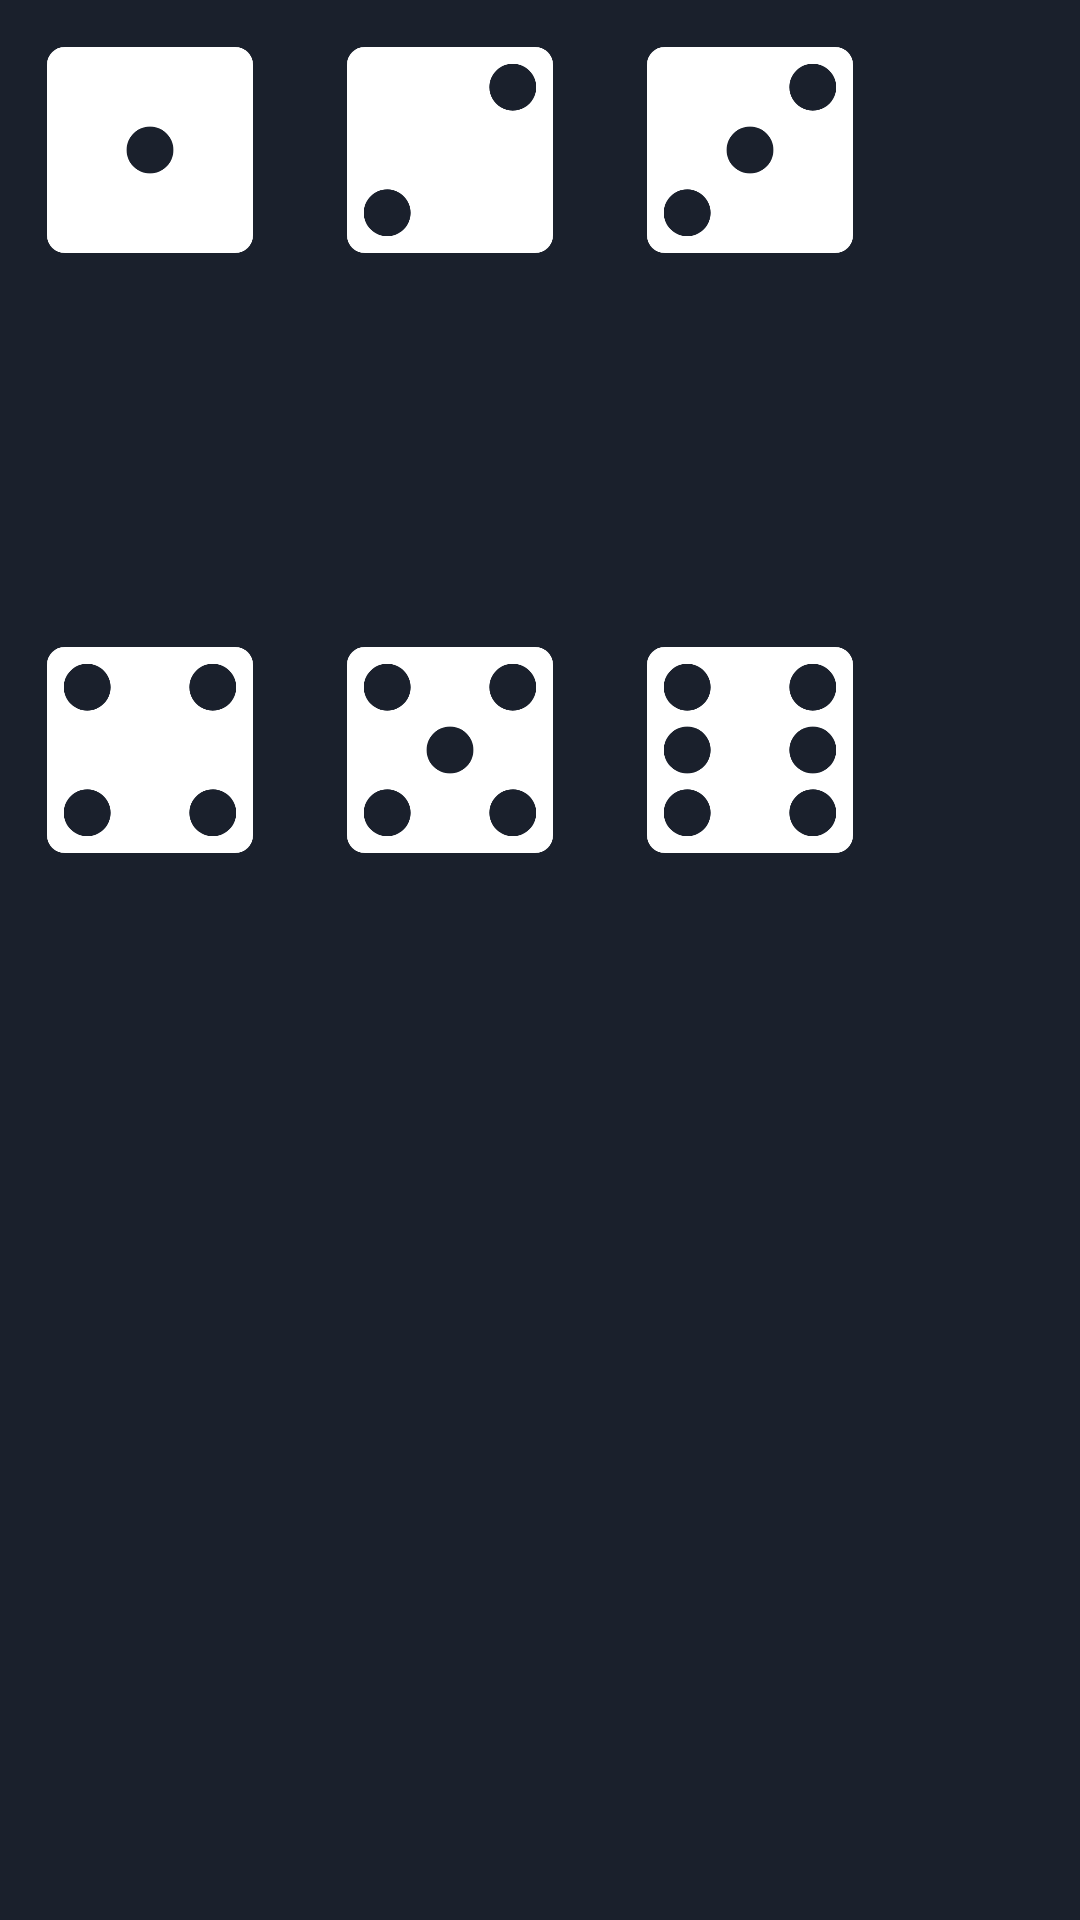

Locate icon controls on the screen. Image size 1080 x 1920, boxes as (x1, y1, x2, y2).
dice: (47, 47, 253, 253), (347, 47, 553, 253), (647, 47, 853, 253), (47, 647, 253, 853), (347, 647, 553, 853), (647, 647, 853, 853)
